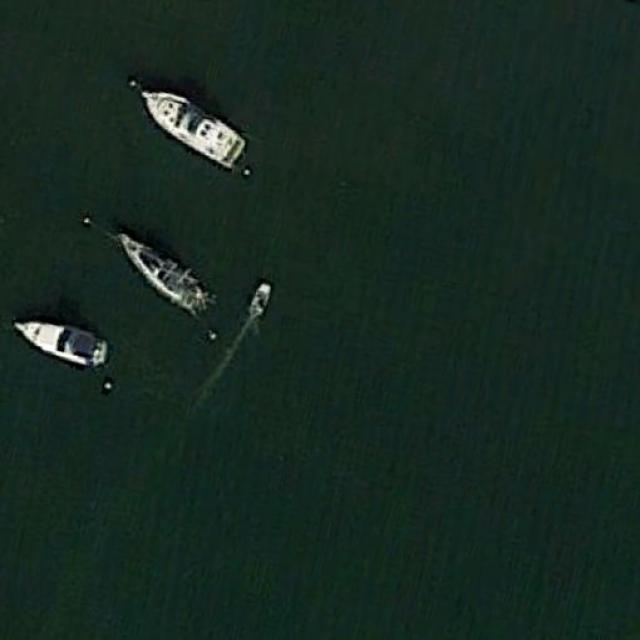boat: (134, 85, 250, 172), (118, 230, 208, 312), (12, 320, 110, 366), (246, 279, 272, 321)
